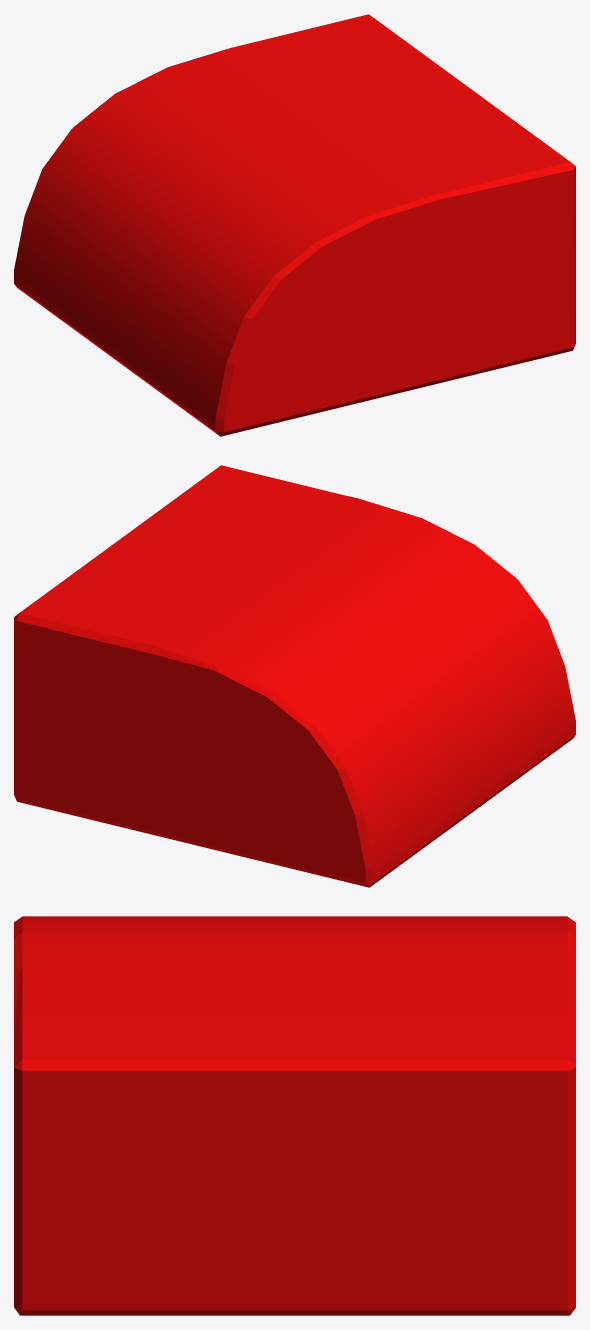
The model's file is Part_Car_2X1_simple.FBX.
The picture shows the model from 3 angles, top to bottom: view 1: azimuth 30°, elevation 25°; view 2: azimuth 150°, elevation 25°; view 3: azimuth 270°, elevation 25°; orthographic projection. The views are drawn at different scales.
Parts seen in each view (by area): view 1: Part_Car_2X1_simple; view 2: Part_Car_2X1_simple; view 3: Part_Car_2X1_simple.
Part boxes in pixels (<box>): Part_Car_2X1_simple: <box>14,14,575,436</box>; Part_Car_2X1_simple: <box>14,465,575,887</box>; Part_Car_2X1_simple: <box>14,916,575,1315</box>.
Bounding box in the file's own units: 200 × 200 × 100.
